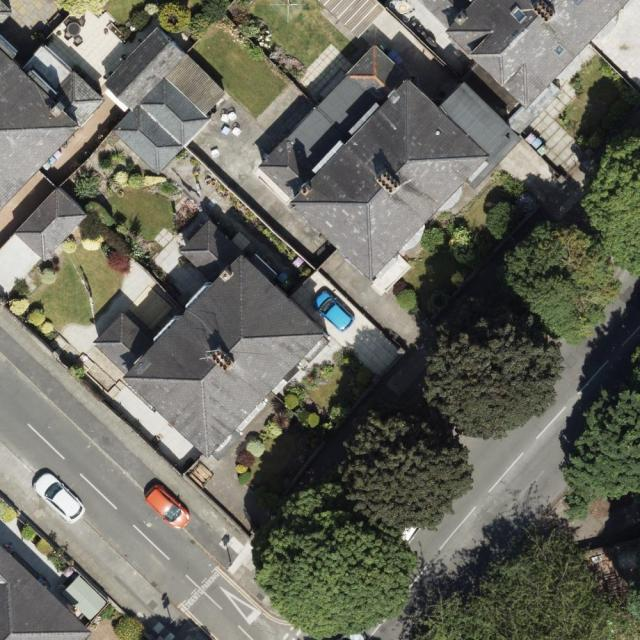roof: (259, 0, 633, 295), (94, 219, 329, 460), (105, 26, 227, 175), (0, 48, 107, 209), (14, 186, 89, 262)
skylight: (508, 4, 530, 25), (551, 42, 565, 58), (573, 0, 582, 6), (571, 0, 573, 2)
